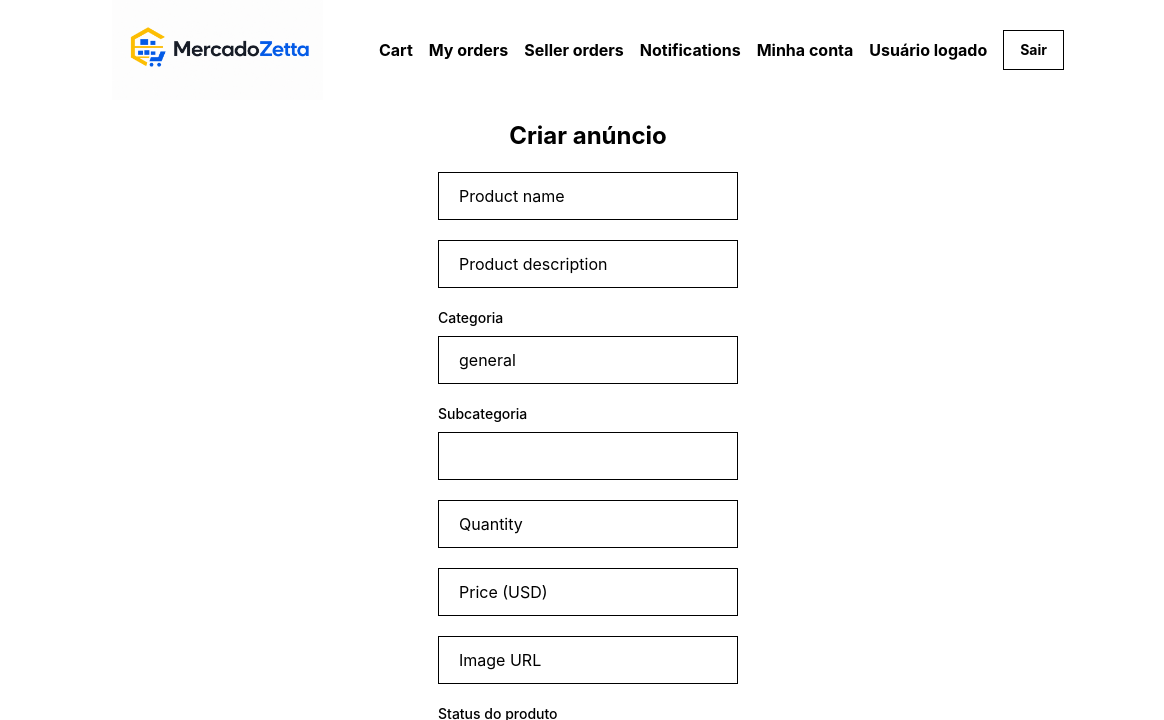
Test case: AddProduct › shows a generic error when product creation fails without an API message
Type "Coffee" into the field labelled "Product name". click: {"x": 588, "y": 196}
box: top-left (438, 172), bottom-right (738, 220)
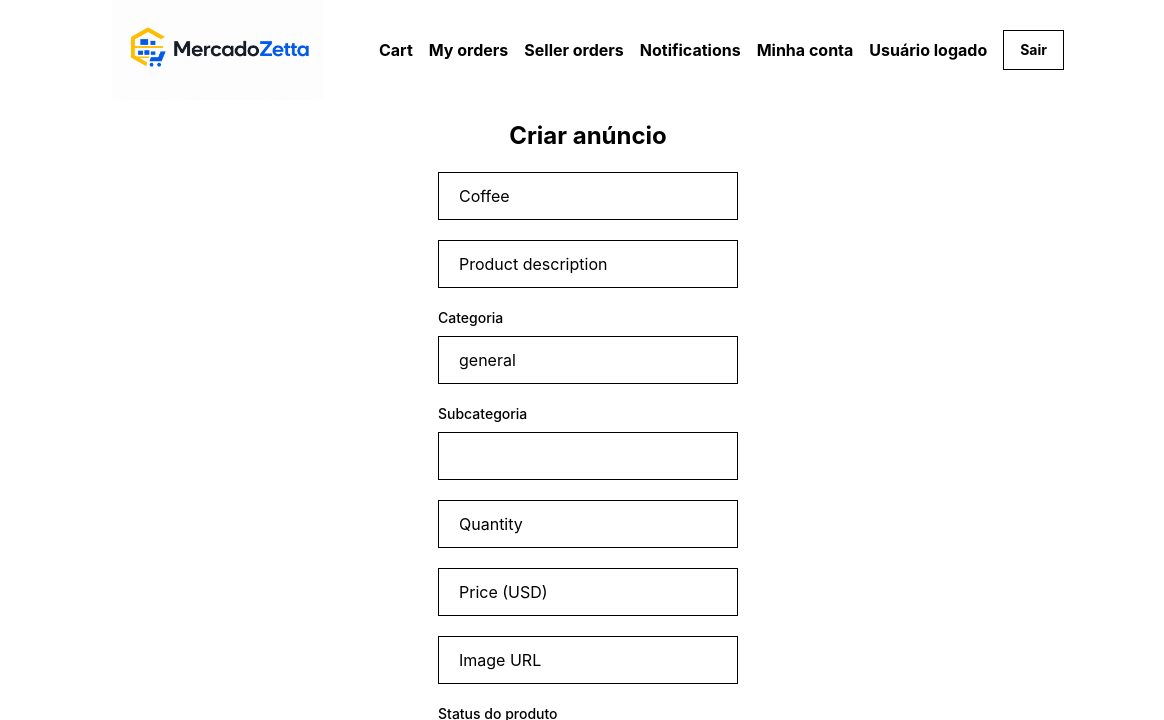
Type "Fresh beans" into the field labelled "Product description". click: {"x": 588, "y": 264}
box: top-left (438, 240), bottom-right (738, 288)
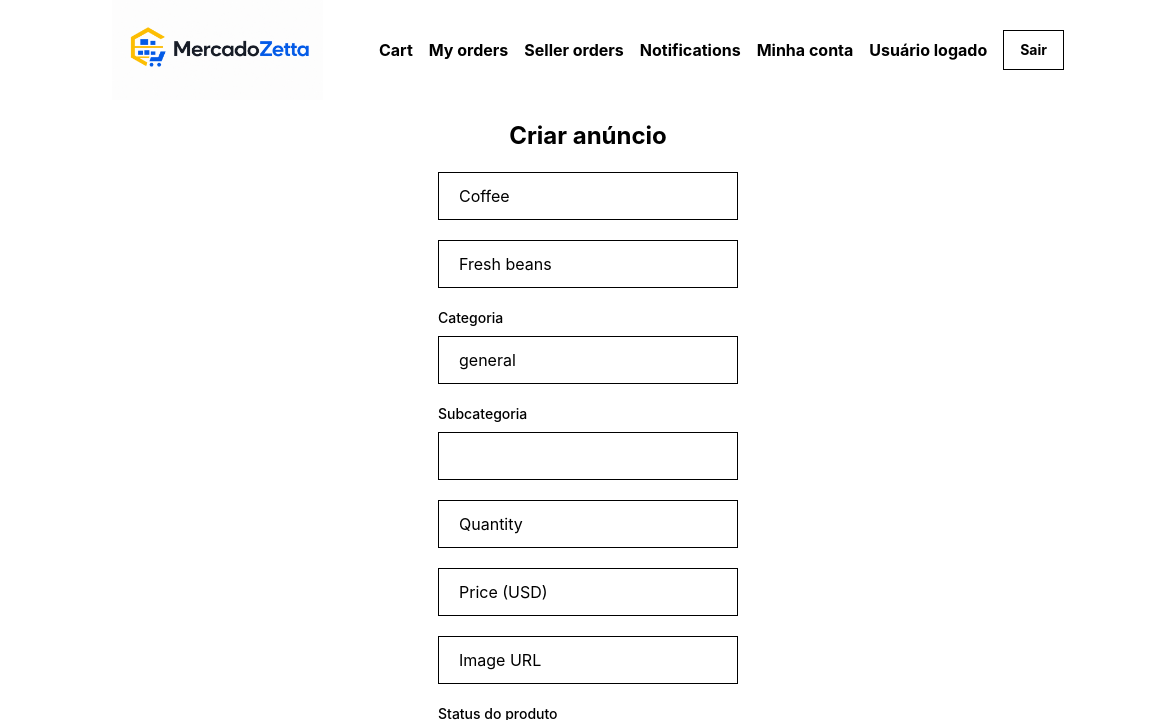
Type "3" into the number field labelled "Quantity". click: {"x": 588, "y": 524}
box: top-left (438, 500), bottom-right (738, 548)
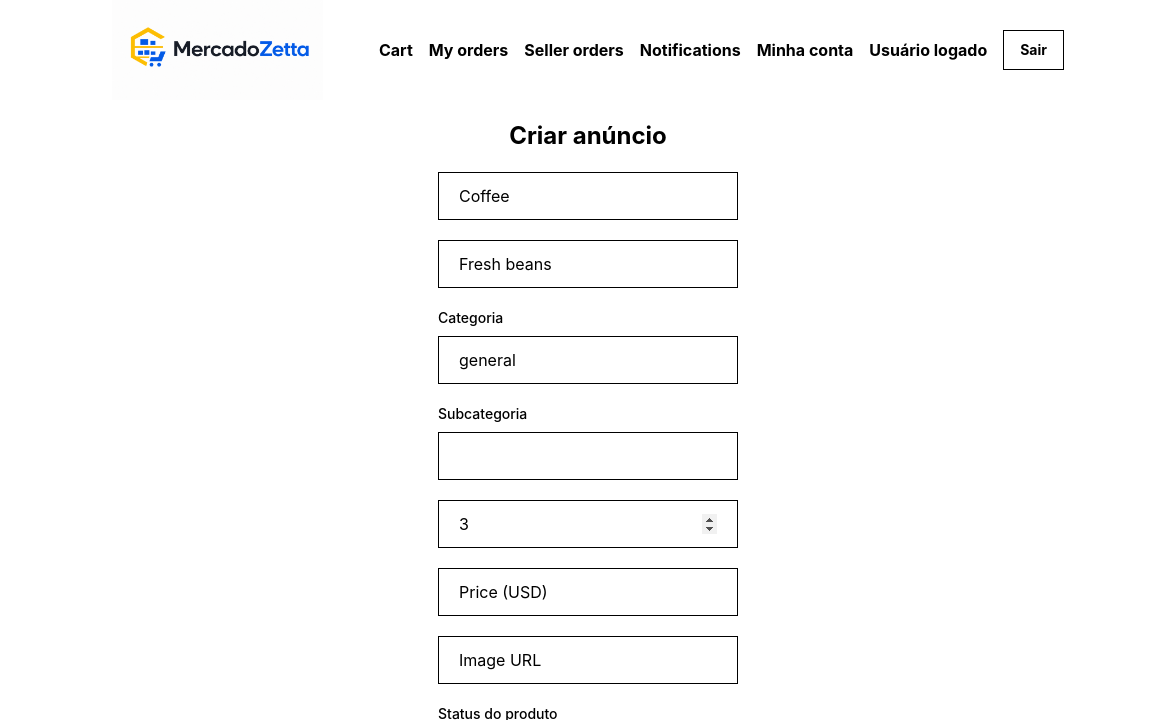
Type "12.50" into the number field labelled "Price (USD)". click: {"x": 588, "y": 592}
box: top-left (438, 568), bottom-right (738, 616)
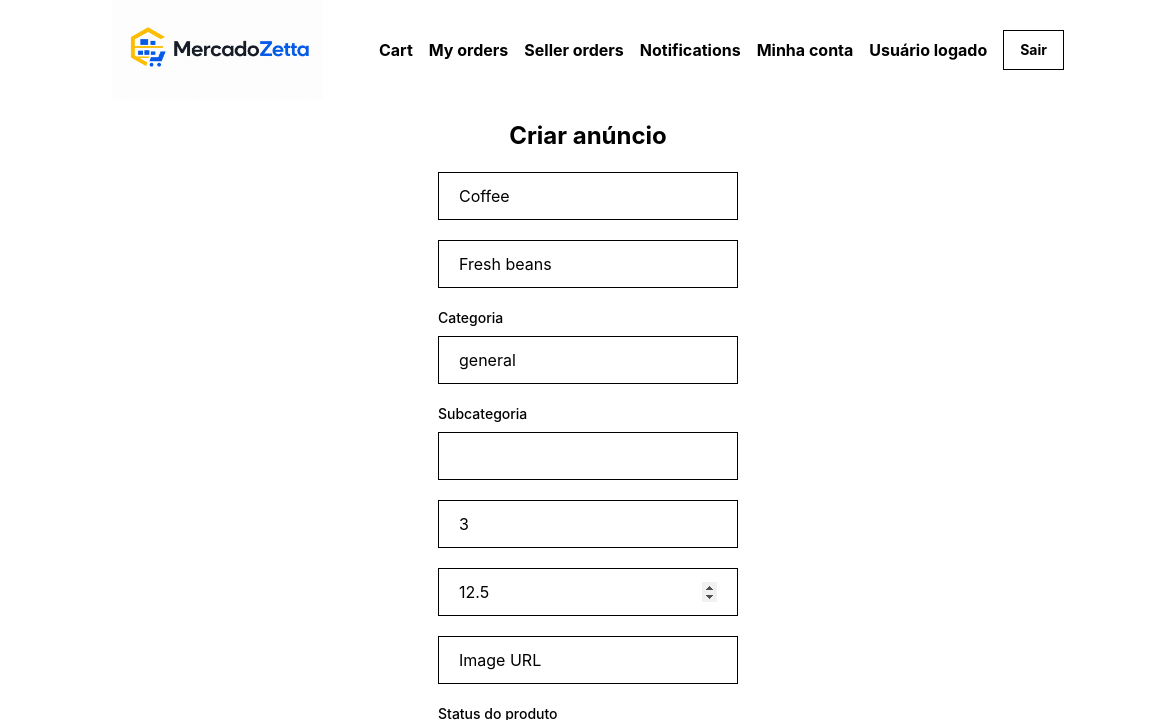
Type "coffee.jpg" into the field named "Enviar imagem". click: {"x": 588, "y": 660}
box: top-left (438, 636), bottom-right (738, 684)
(page scrolled)
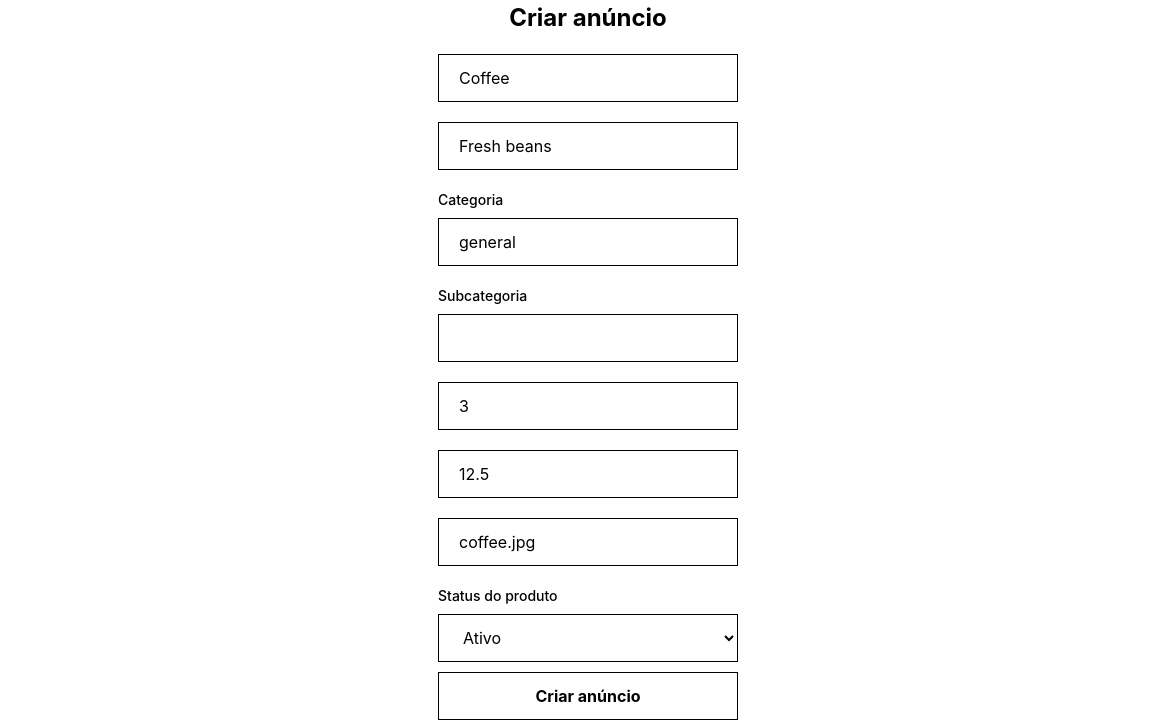
Click the button "Criar anúncio". click: {"x": 588, "y": 696}
box: top-left (438, 672), bottom-right (738, 719)
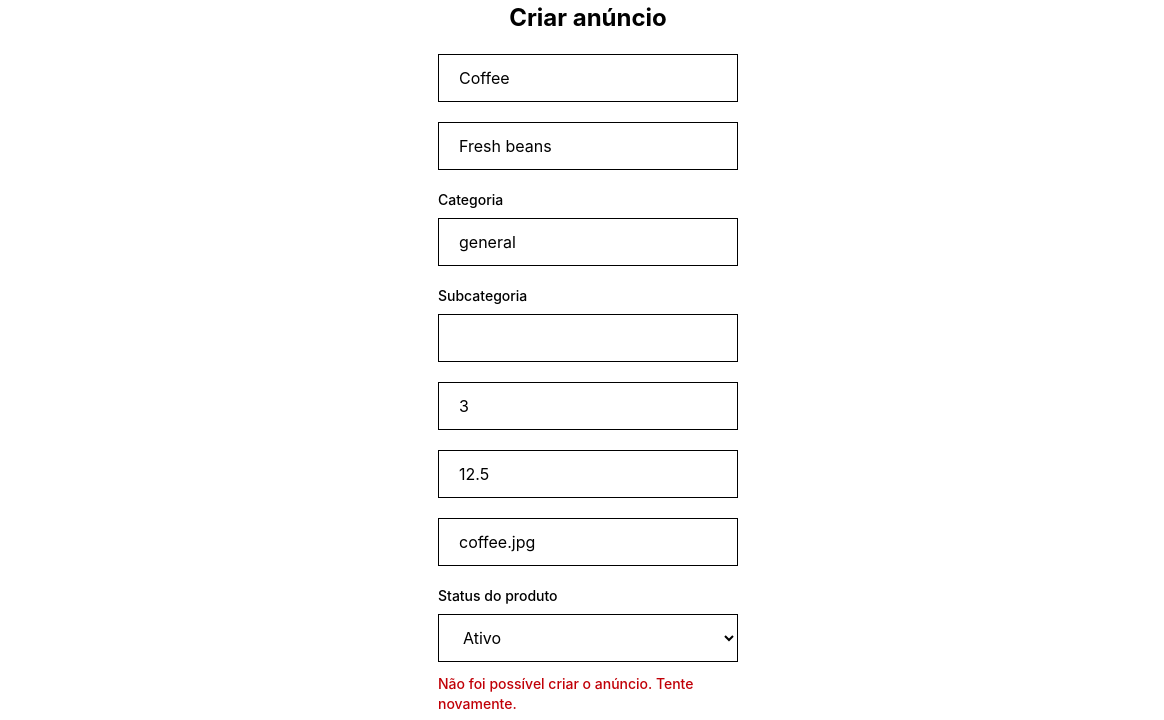
Expected: the message reads "Não foi possível criar o anúncio. Tente novamente.", top-left (438, 675), bottom-right (693, 712)
